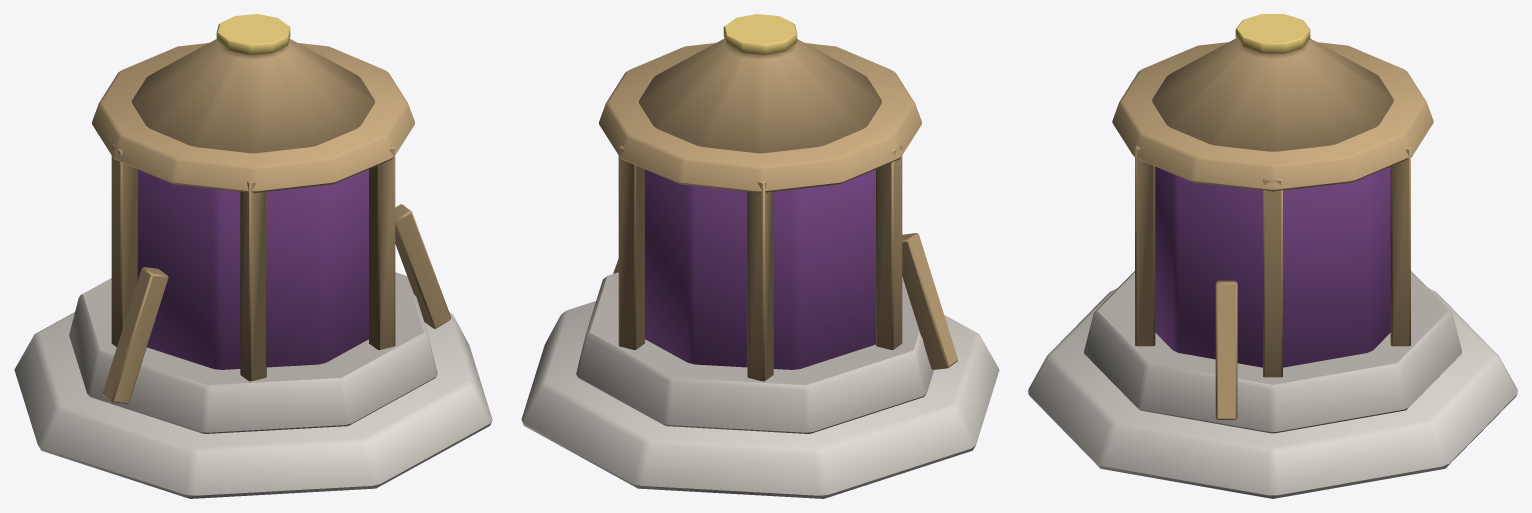
Rendered from focus_extractor_tank_lod0.glb.
The picture shows the model from 3 angles, left to right: view 1: azimuth 30°, elevation 25°; view 2: azimuth 150°, elevation 25°; view 3: azimuth 270°, elevation 25°; orthographic projection.
Visible parts, largest first — view 1: focus_extractor_tank; view 2: focus_extractor_tank; view 3: focus_extractor_tank.
Boxes of the visible parts, left/top/right/bottom form: focus_extractor_tank: left=14, top=14, right=492, bottom=498; focus_extractor_tank: left=521, top=14, right=999, bottom=498; focus_extractor_tank: left=1028, top=14, right=1517, bottom=498.
Size of the model in its own units: 3.38 by 2.8 by 3.38.
